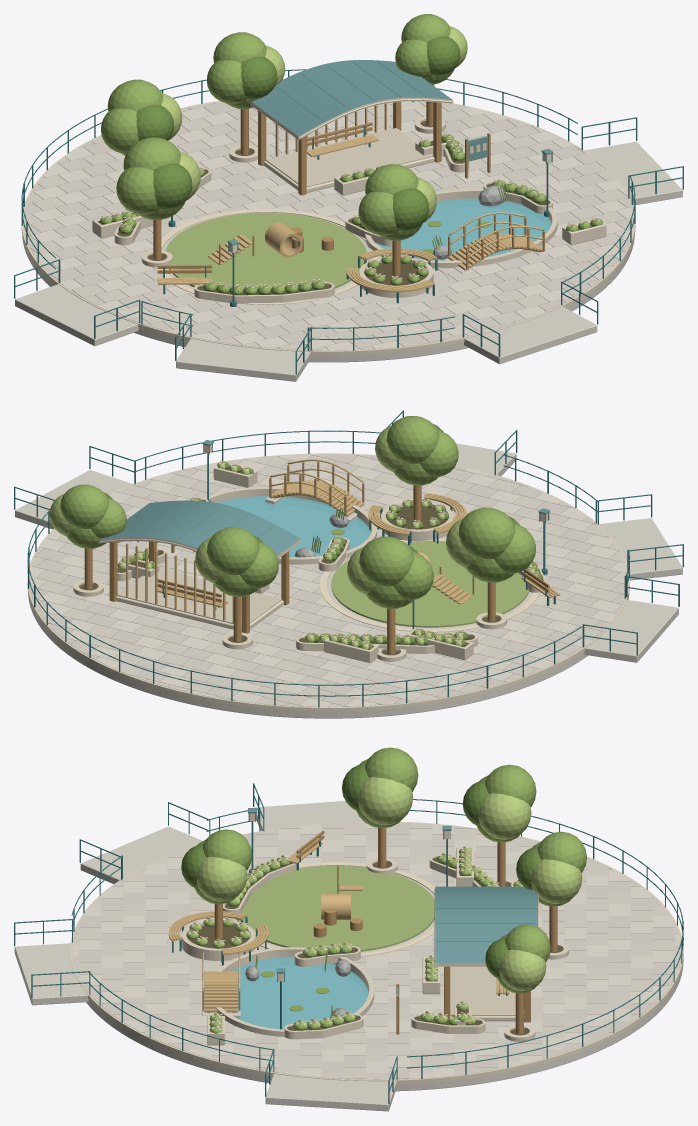
Rendered from environment.glb.
3 renders of one model, top to bottom at view 1: azimuth 30°, elevation 25°; view 2: azimuth 150°, elevation 25°; view 3: azimuth 270°, elevation 25°, orthographic.
Visible parts, largest first — view 1: Site_Components__WarmLimestonePaver1, Site_Components__WarmLimestonePaver2, Site_Components__WarmLimestonePaver0, Site_Components__stone, Landscape_Components__leaf, Landscape_Components__Meadow lawn, Landscape_Components__cream, Landscape_Components__leafDark, OpenGardenPavilion__roof, Site_Components__rail, Landscape_Components__Clear turquoise water, OpenGardenPavilion__floor (+18 smaller); view 2: Site_Components__WarmLimestonePaver1, Site_Components__WarmLimestonePaver0, Site_Components__WarmLimestonePaver2, Landscape_Components__leaf, Site_Components__stone, Landscape_Components__cream, Site_Components__rail, Landscape_Components__Meadow lawn, OpenGardenPavilion__roof, Landscape_Components__leafLight, Site_Components__cream, Landscape_Components__Clear turquoise water (+17 smaller); view 3: Site_Components__WarmLimestonePaver1, Site_Components__WarmLimestonePaver0, Site_Components__WarmLimestonePaver2, Site_Components__stone, Landscape_Components__Meadow lawn, Landscape_Components__leaf, Landscape_Components__leafLight, Landscape_Components__cream, Landscape_Components__Clear turquoise water, OpenGardenPavilion__roof, Site_Components__rail, Site_Components__cream (+11 smaller).
Boxes of the visible parts, box(x1,y1,x2,y2) form: Site_Components__WarmLimestonePaver1: box(29, 101, 632, 350); Site_Components__WarmLimestonePaver2: box(24, 101, 633, 348); Site_Components__WarmLimestonePaver0: box(23, 102, 627, 350); Site_Components__stone: box(15, 141, 682, 381); Landscape_Components__leaf: box(101, 14, 602, 295); Landscape_Components__Meadow lawn: box(165, 213, 366, 288); Landscape_Components__cream: box(92, 116, 606, 303); Landscape_Components__leafDark: box(100, 36, 596, 294); OpenGardenPavilion__roof: box(252, 60, 452, 136); Site_Components__rail: box(14, 69, 683, 374); Landscape_Components__Clear turquoise water: box(376, 198, 551, 260); OpenGardenPavilion__floor: box(266, 128, 433, 187); Site_Components__WarmLimestonePaver1: box(29, 454, 626, 706); Site_Components__WarmLimestonePaver0: box(31, 454, 624, 707); Site_Components__WarmLimestonePaver2: box(30, 454, 624, 706); Landscape_Components__leaf: box(60, 416, 540, 647); Site_Components__stone: box(15, 443, 682, 718); Landscape_Components__cream: box(73, 463, 546, 662); Site_Components__rail: box(14, 410, 683, 707); Landscape_Components__Meadow lawn: box(331, 542, 529, 627); OpenGardenPavilion__roof: box(99, 500, 300, 555); Landscape_Components__leafLight: box(49, 426, 537, 649); Site_Components__cream: box(27, 453, 629, 711); Landscape_Components__Clear turquoise water: box(218, 496, 371, 557); Site_Components__WarmLimestonePaver1: box(72, 822, 680, 1079); Site_Components__WarmLimestonePaver0: box(72, 823, 681, 1079); Site_Components__WarmLimestonePaver2: box(72, 822, 681, 1079); Site_Components__stone: box(14, 800, 683, 1111); Landscape_Components__Meadow lawn: box(236, 866, 434, 951); Landscape_Components__leaf: box(186, 747, 586, 1033); Landscape_Components__leafLight: box(193, 777, 582, 1032); Landscape_Components__cream: box(181, 847, 568, 1045); Landscape_Components__Clear turquoise water: box(231, 956, 368, 1029); OpenGardenPavilion__roof: box(435, 886, 537, 962); Site_Components__rail: box(14, 783, 683, 1103); Site_Components__cream: box(70, 821, 683, 1083).
Size of the model in its own units: 27.98 by 5.72 by 25.81.
